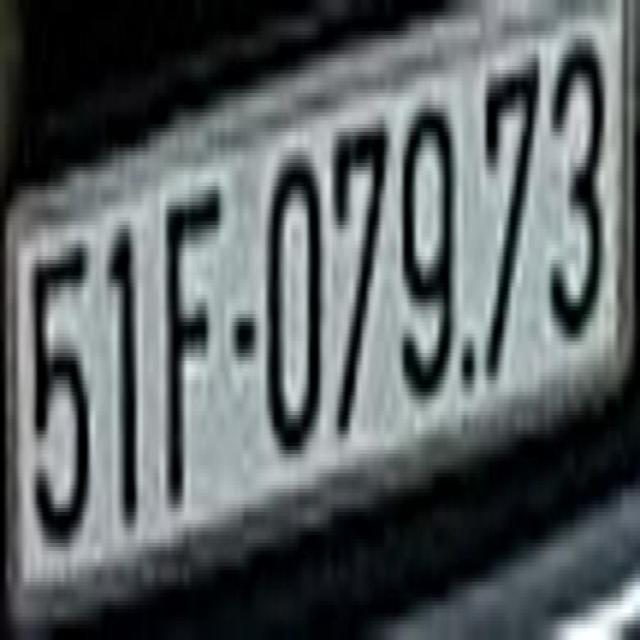0: (263, 97, 323, 473)
1: (98, 202, 152, 535)
3: (547, 23, 608, 357)
5: (27, 217, 96, 559)
7: (328, 66, 389, 454), (482, 31, 542, 376)
9: (397, 62, 456, 434)
F: (160, 156, 223, 532)
